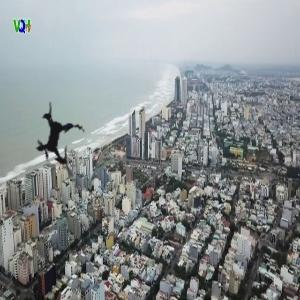drone: (1, 83, 117, 199)
